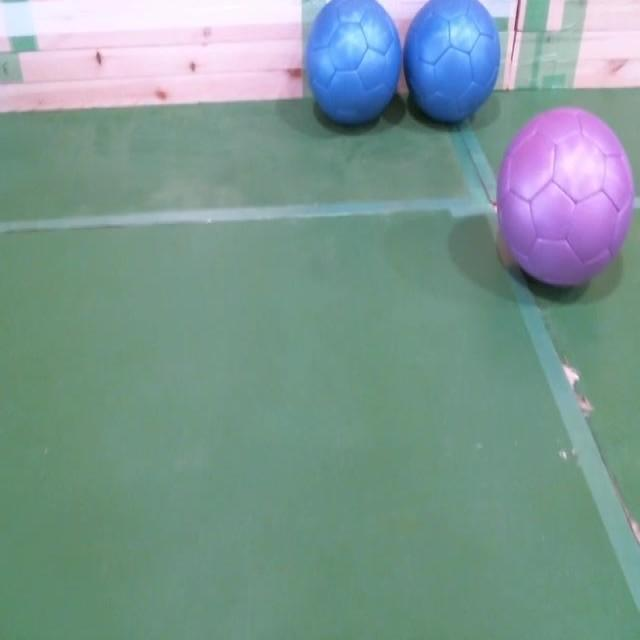blue_ball: (306, 0, 404, 127), (404, 0, 501, 124)
purple_ball: (495, 108, 636, 291)
